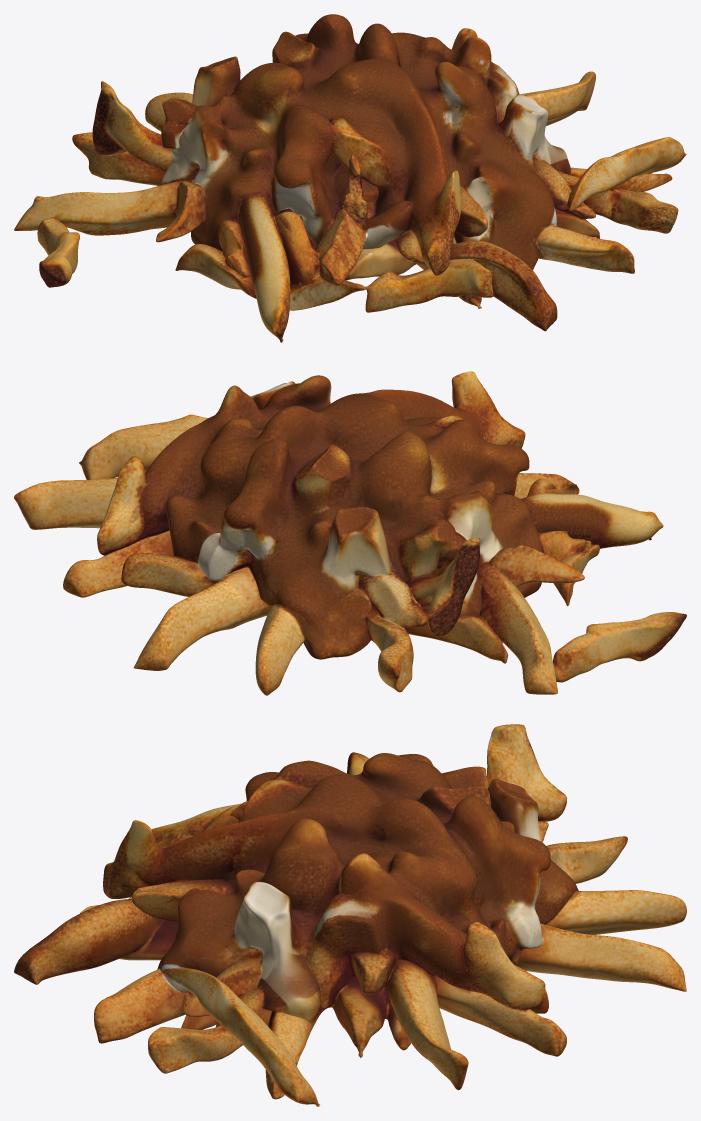
Rendered from remix+3d+model.glb.
3 renders of one model, top to bottom at view 1: azimuth 30°, elevation 25°; view 2: azimuth 150°, elevation 25°; view 3: azimuth 270°, elevation 25°, orthographic. The views are drawn at different scales.
Parts seen in each view (by area): view 1: tripo_node_32729678-0f0c-4ab2-8866-829409cc83b9; view 2: tripo_node_32729678-0f0c-4ab2-8866-829409cc83b9; view 3: tripo_node_32729678-0f0c-4ab2-8866-829409cc83b9.
Part boxes in pixels (<box>): tripo_node_32729678-0f0c-4ab2-8866-829409cc83b9: <box>14,14,686,342</box>; tripo_node_32729678-0f0c-4ab2-8866-829409cc83b9: <box>14,371,686,695</box>; tripo_node_32729678-0f0c-4ab2-8866-829409cc83b9: <box>14,724,686,1106</box>.
Size of the model in its own units: 0.9814 by 0.2606 by 0.8549.
Materials: 1 (1 with a texture image).
